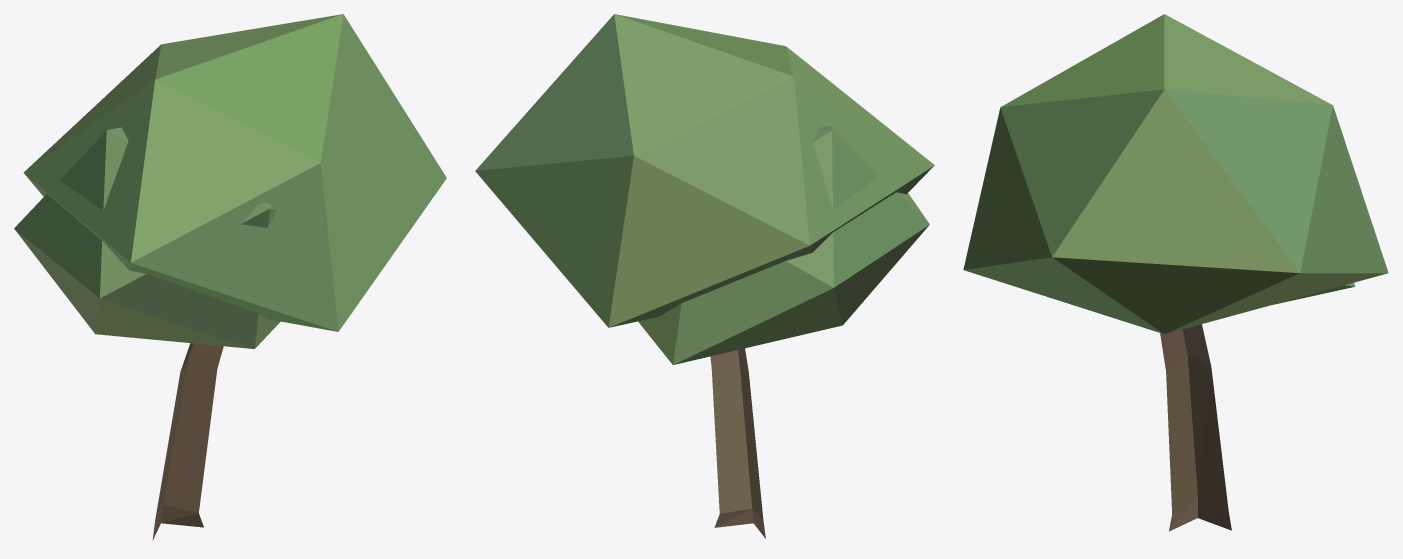
Rendered from Tree_Broadleaf_06_Far.glb.
3 renders of one model, left to right at view 1: azimuth 30°, elevation 25°; view 2: azimuth 150°, elevation 25°; view 3: azimuth 270°, elevation 25°, orthographic. The views are drawn at different scales.
Parts seen in each view (by area): view 1: Tree_Broadleaf_06_Far; view 2: Tree_Broadleaf_06_Far; view 3: Tree_Broadleaf_06_Far.
Boxes of the visible parts, x1=… form: Tree_Broadleaf_06_Far: x1=14, y1=14, x2=446, y2=540; Tree_Broadleaf_06_Far: x1=475, y1=14, x2=934, y2=538; Tree_Broadleaf_06_Far: x1=963, y1=14, x2=1388, y2=531.
Size of the model in its own units: 6.38 by 8.21 by 6.11.
